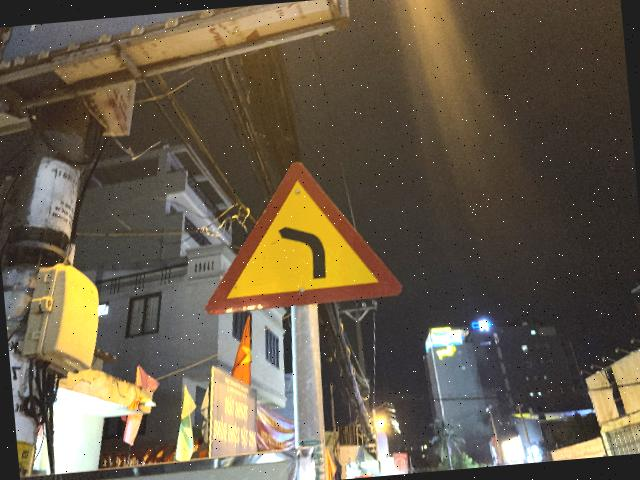cho-ngoat-nguy-hiem-ben-phai: (192, 149, 402, 315)
